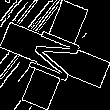M_E: (23, 24, 87, 86)
